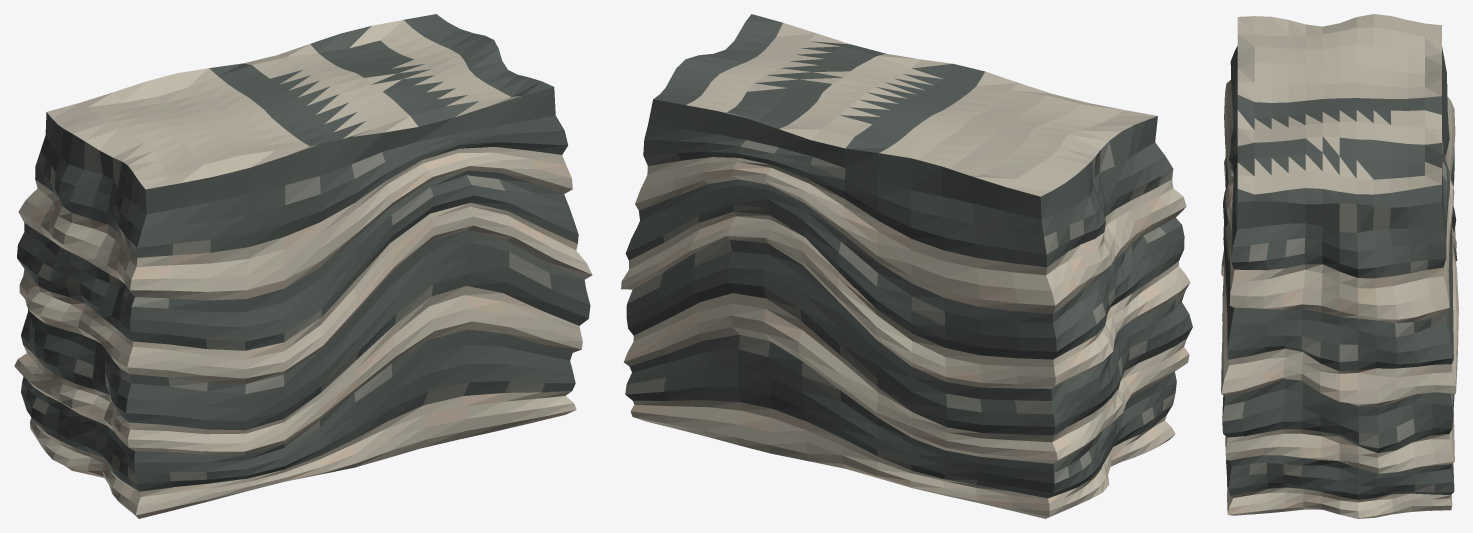
The model's file is banded-gneiss-outcrop-r003.glb.
3 renders of one model, left to right at view 1: azimuth 30°, elevation 25°; view 2: azimuth 150°, elevation 25°; view 3: azimuth 270°, elevation 25°, orthographic. The views are drawn at different scales.
Parts seen in each view (by area): view 1: solid_coarse_eight_band_folded_gneiss_with_broken_cartesian_; view 2: solid_coarse_eight_band_folded_gneiss_with_broken_cartesian_; view 3: solid_coarse_eight_band_folded_gneiss_with_broken_cartesian_.
Boxes of the visible parts, left/top/right/bottom form: solid_coarse_eight_band_folded_gneiss_with_broken_cartesian_: left=14, top=14, right=592, bottom=518; solid_coarse_eight_band_folded_gneiss_with_broken_cartesian_: left=621, top=14, right=1192, bottom=518; solid_coarse_eight_band_folded_gneiss_with_broken_cartesian_: left=1221, top=14, right=1458, bottom=518.
Size of the model in its own units: 3.5 by 2.35 by 1.62.
